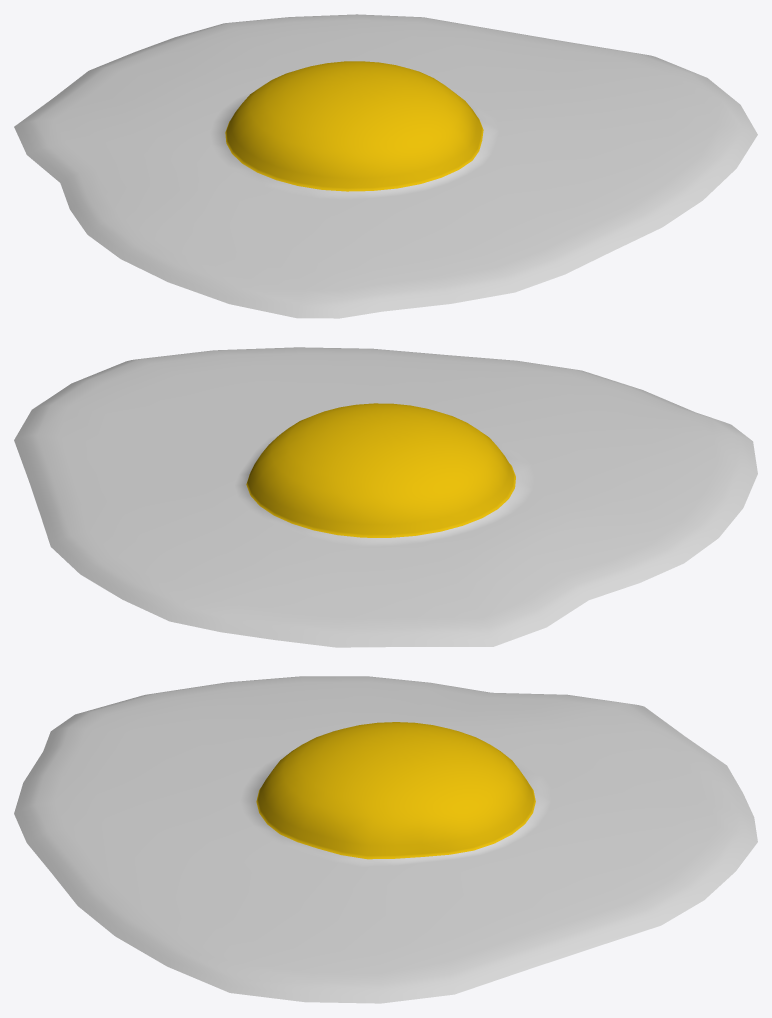
File: EggOverE4.fbx
The picture shows the model from 3 angles, top to bottom: view 1: azimuth 30°, elevation 25°; view 2: azimuth 150°, elevation 25°; view 3: azimuth 270°, elevation 25°; orthographic projection. The views are drawn at different scales.
Visible parts, largest first — view 1: Sphere.019; view 2: Sphere.019; view 3: Sphere.019.
Part boxes in pixels (x1,y1,x2,y2): Sphere.019: (14,14,757,318); Sphere.019: (14,347,757,647); Sphere.019: (14,676,757,1003).
Bounding box in the file's own units: 546 × 61.24 × 527.
